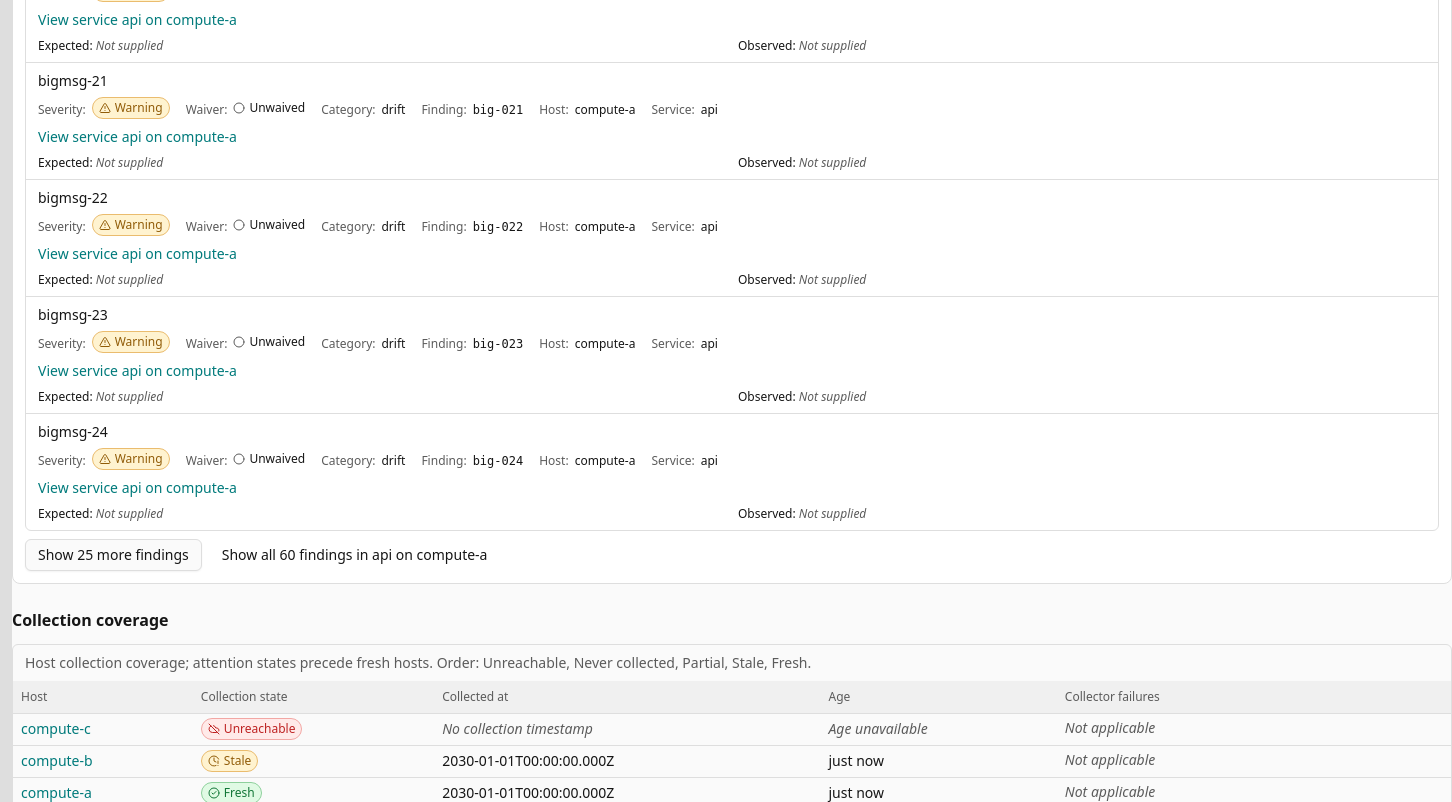
it: progressive finding disclosure › reaches every finding through repeated show-more
(page scrolled)
Click the button with aria-label "Show 25 more findings in api on compute-a": [113, 555] box [25,539,202,571]
(page scrolled)
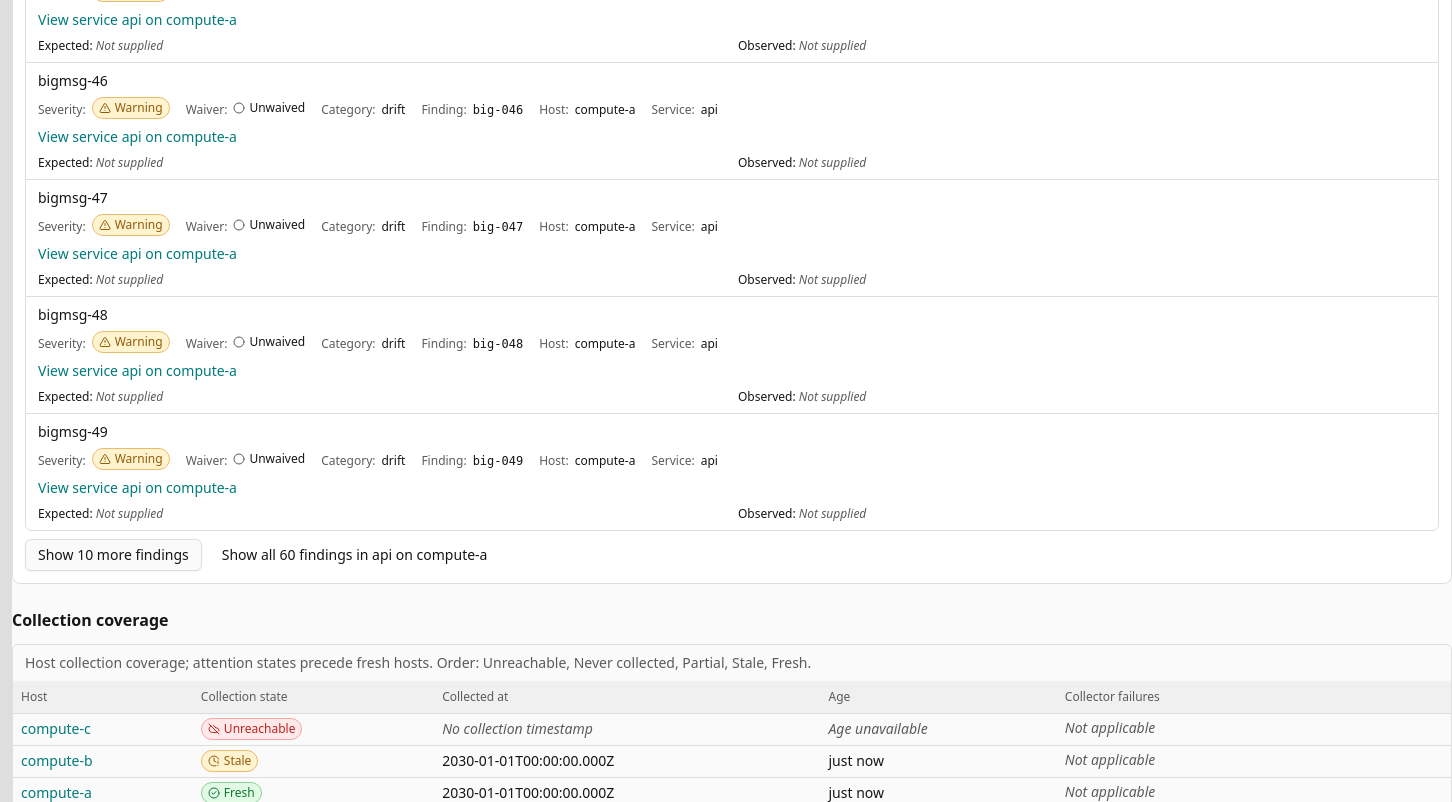
Click the button with aria-label "Show 10 more findings in api on compute-a": [113, 555] box [25,539,202,571]
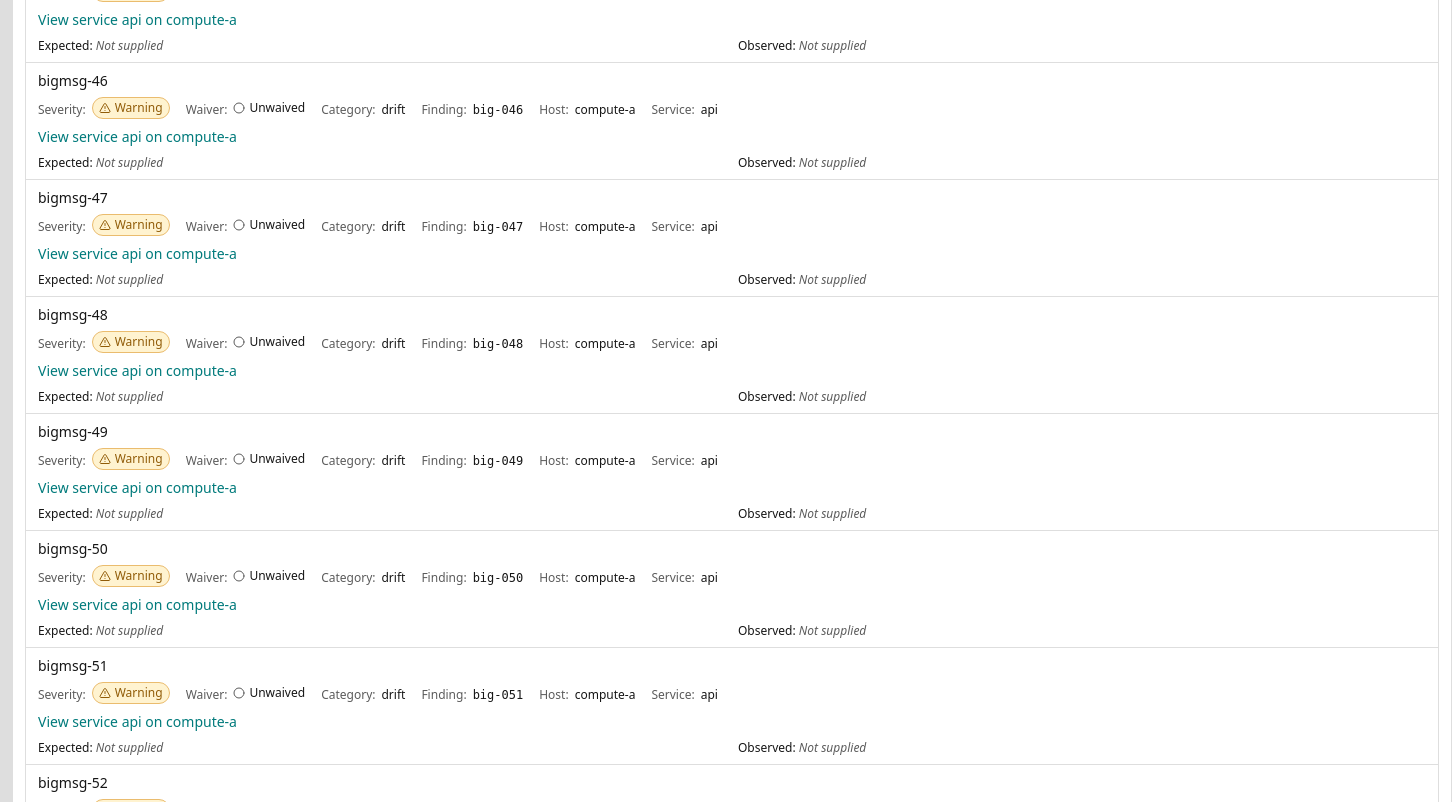
Check: the button "Show 10 more findings" is gone
